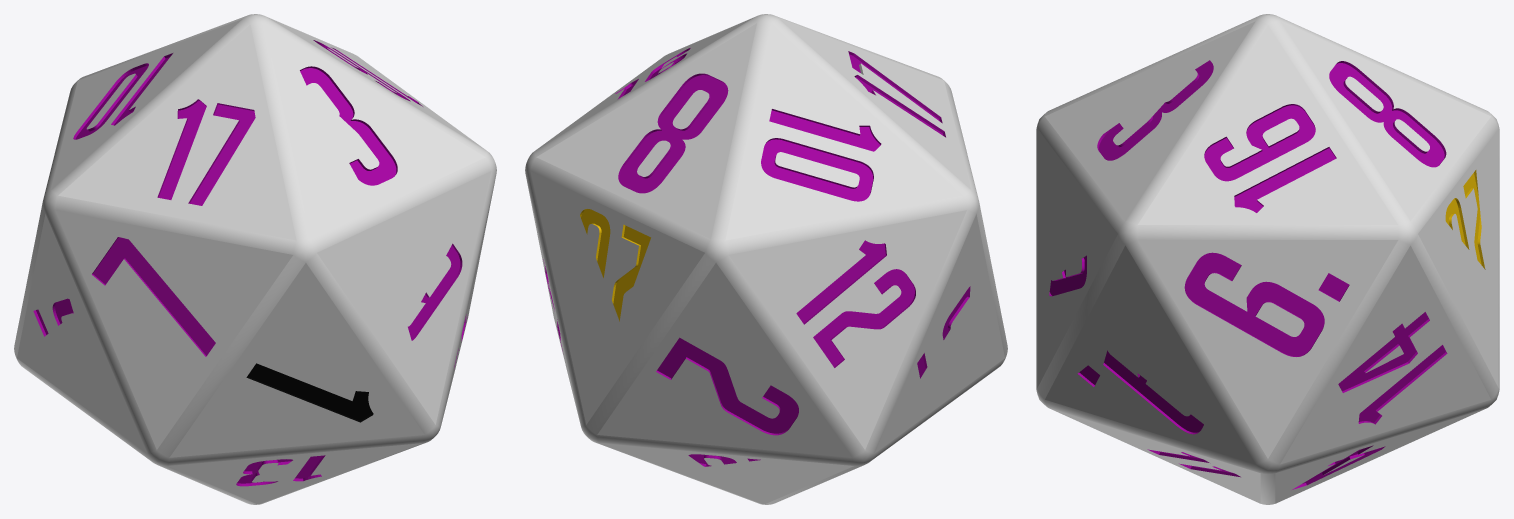
The picture shows the model from 3 angles, left to right: view 1: azimuth 30°, elevation 25°; view 2: azimuth 150°, elevation 25°; view 3: azimuth 270°, elevation 25°; orthographic projection.
Parts seen in each view (by area): view 1: Dice_d20; view 2: Dice_d20; view 3: Dice_d20.
Part boxes in pixels (x1,y1,x2,y2): Dice_d20: (14,14,496,504); Dice_d20: (525,14,1007,504); Dice_d20: (1036,14,1499,504).
Size of the model in its own units: 168 by 186 by 161.
